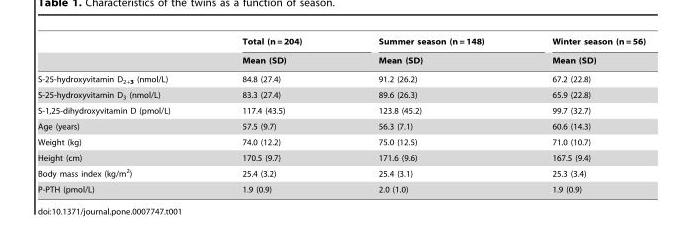table: (37, 36, 645, 193)
table column: (339, 36, 517, 193), (37, 36, 205, 193), (205, 36, 339, 193), (517, 36, 645, 193)
table column header: (37, 36, 645, 69)
table row: (37, 50, 645, 69), (37, 69, 645, 87), (37, 164, 645, 181), (37, 87, 645, 103), (37, 118, 645, 134), (37, 103, 645, 118), (37, 134, 645, 149), (37, 149, 645, 164), (37, 36, 645, 50), (37, 181, 645, 193)
table spanning cell: (339, 36, 517, 69), (205, 36, 339, 69), (517, 36, 645, 69)
